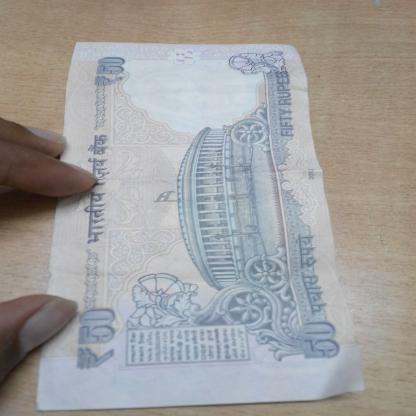Old50Back: (38, 42, 365, 409)
